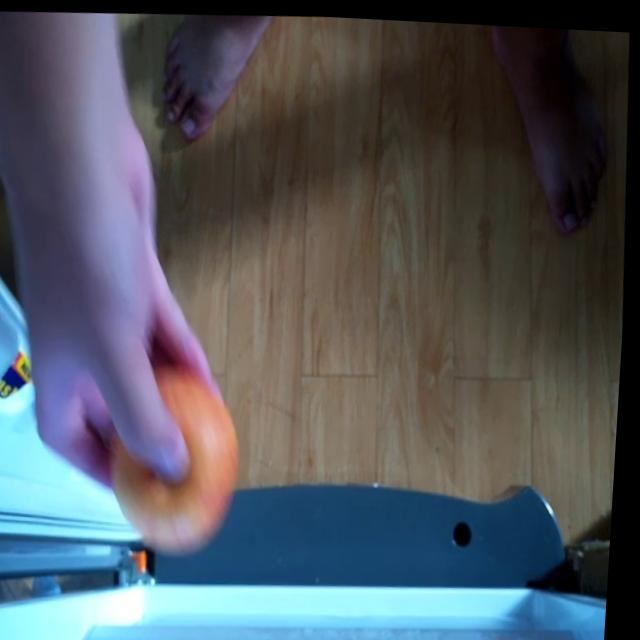apple: (113, 360, 252, 545)
